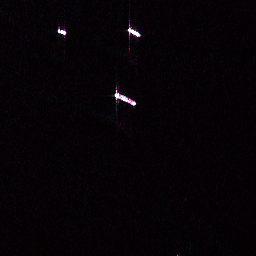ship: (113, 90, 138, 108), (125, 25, 142, 39), (55, 25, 68, 37)
